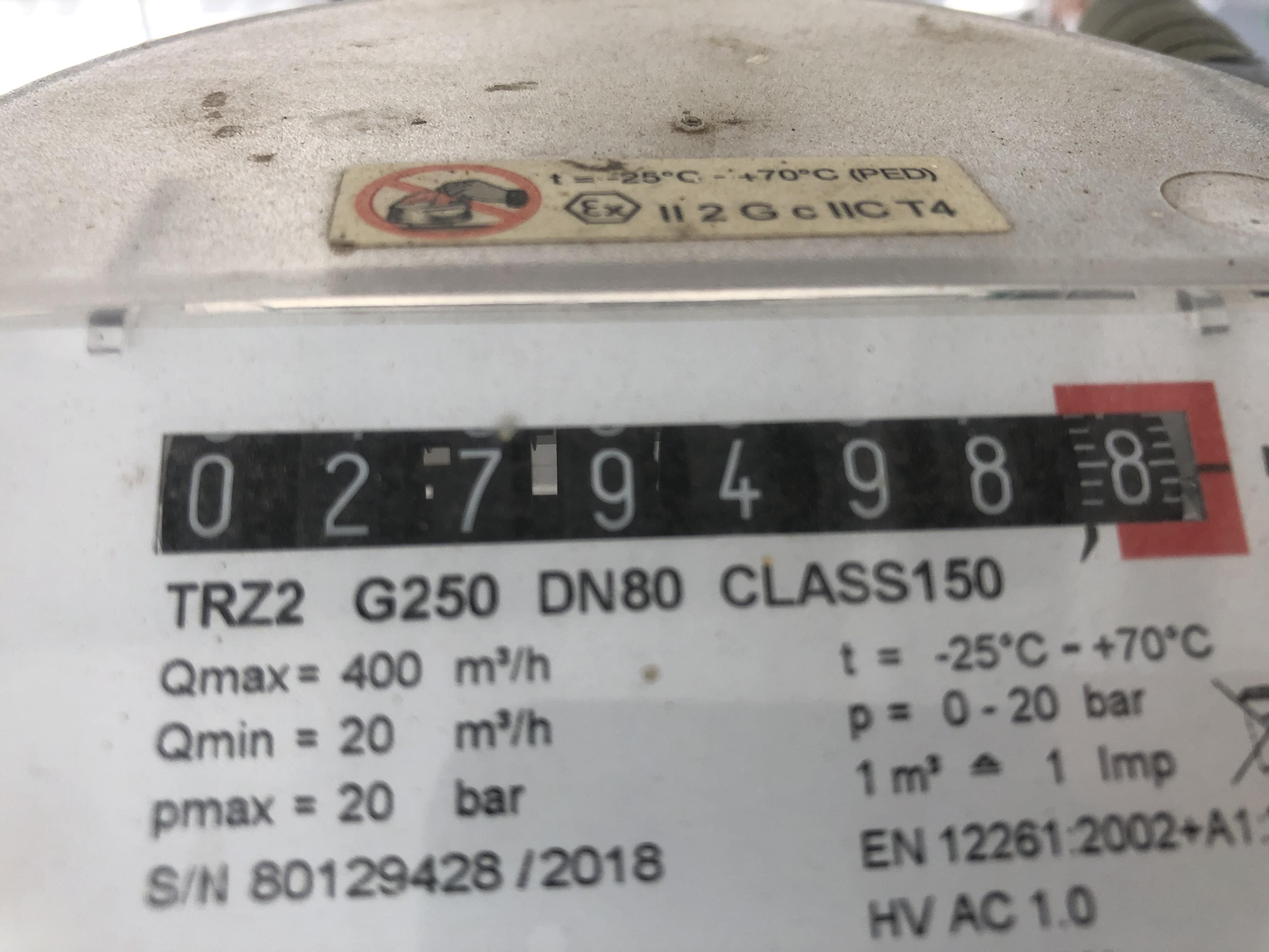analog_dial: (137, 368, 1261, 621)
